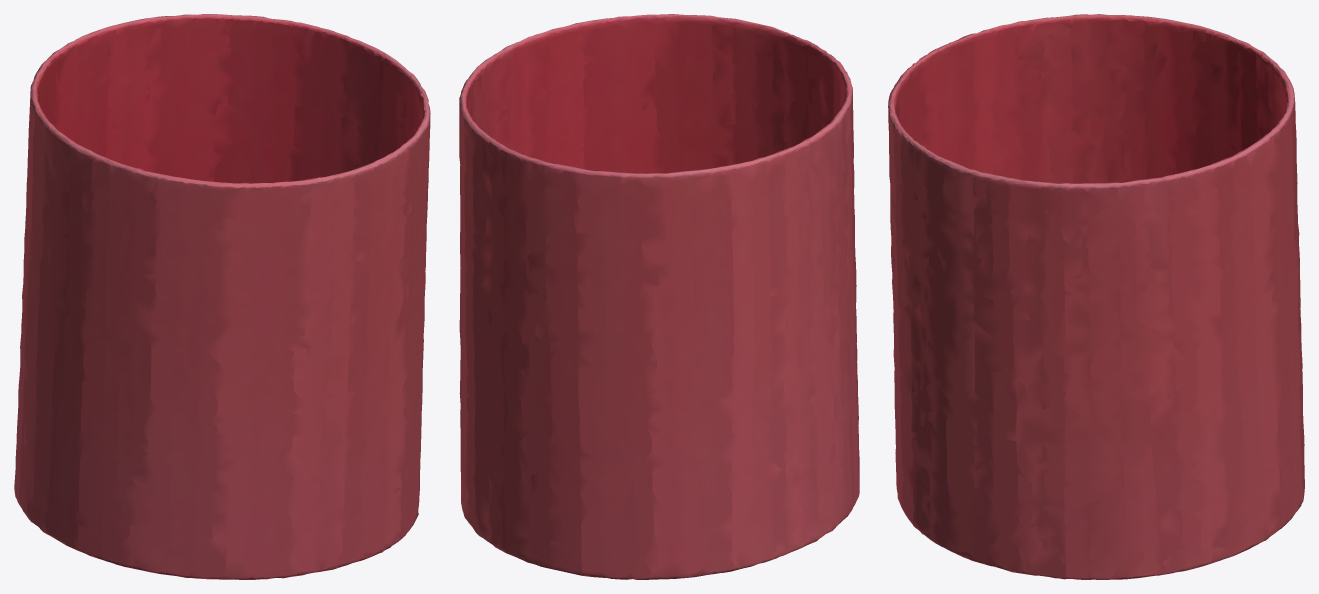
File: 0006_mask_007_red_cup.glb
3 views of the same model, side by side, from view 1: azimuth 30°, elevation 25°; view 2: azimuth 150°, elevation 25°; view 3: azimuth 270°, elevation 25° (orthographic).
Parts seen in each view (by area): view 1: mask_007_object; view 2: mask_007_object; view 3: mask_007_object.
Boxes of the visible parts, left/top/right/bottom form: mask_007_object: left=14, top=14, right=430, bottom=579; mask_007_object: left=459, top=14, right=859, bottom=579; mask_007_object: left=888, top=14, right=1304, bottom=579.
Bounding box in the file's own units: 0.0944 × 0.106 × 0.0978.
